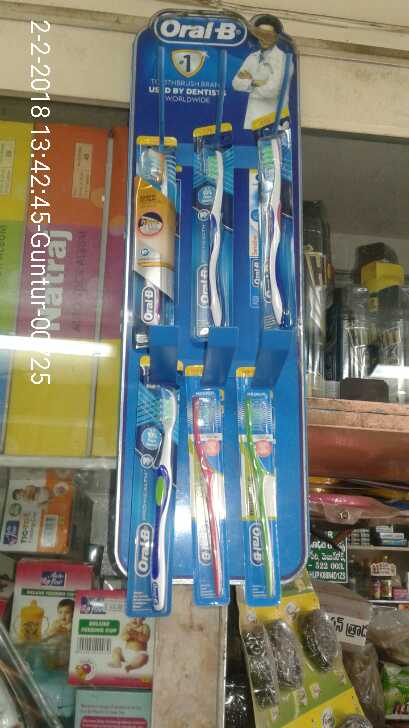oralb: (183, 378, 235, 606), (130, 383, 175, 616), (190, 130, 238, 339), (234, 385, 279, 605), (131, 139, 181, 332), (256, 138, 298, 334)
